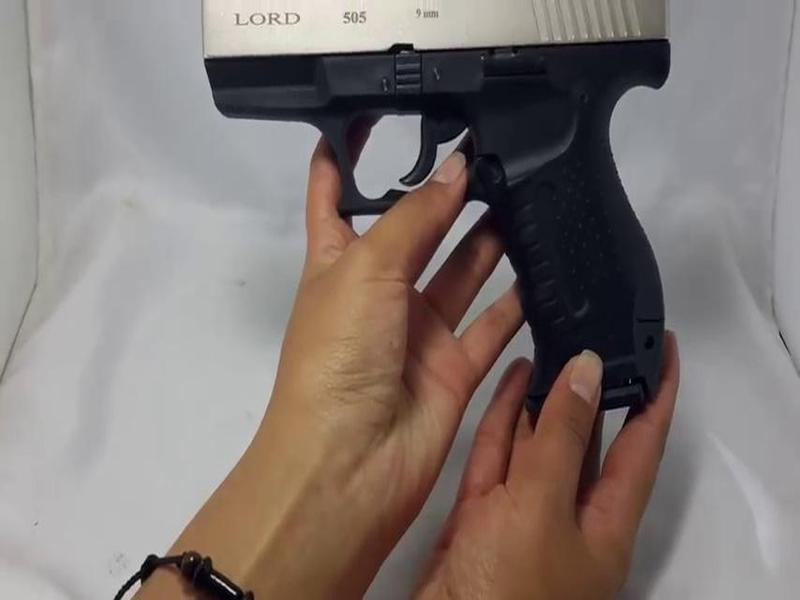Pistola: (194, 1, 668, 402)
